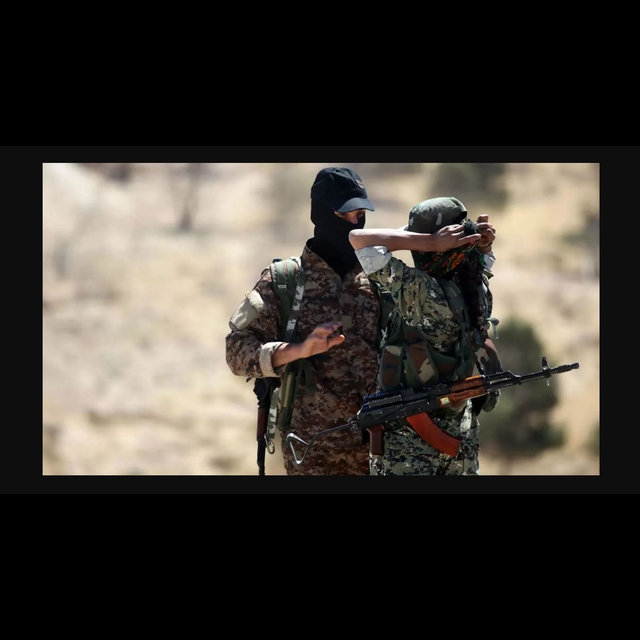AK47: (352, 356, 586, 459)
